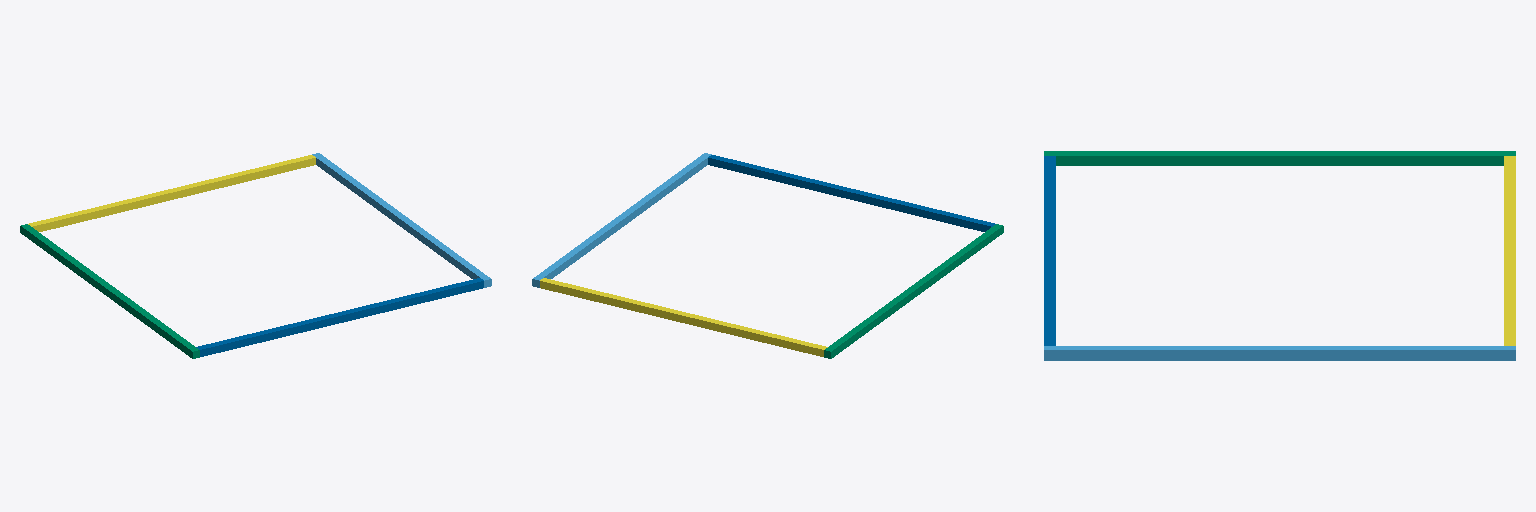
robot.urdf — unit_enclosure:
<?xml version="1.0"?>

<!-- a simple square battlefield for the robot swarm -->
<robot name="unit_enclosure">

<!-- used for fixing the four walls to gazebo -->
<link name="world"/>

<!-- the link objects for four walls -->

<!-- wall at x+1, wall at x+1 and x-1 will be longer than wall at y+1 and y-1 -->
<link name="x+1">
  <inertial>
    <mass value="1"/>
    <origin xyz="0 0 0"/>
    <inertia ixx="1.0" ixy="0.0" ixz="0.0"
      iyy="1.0" iyz="0.0"
      izz="1.0"/>
  </inertial>

  <visual>
    <origin xyz="0 0 0"/>
    <geometry>
      <box size="0.05 2.1 0.05"/>
    </geometry>
  </visual>

  <collision>
    <origin xyz="0 0 0"/>
    <geometry>
      <box size="0.05 2.1 0.05"/>
    </geometry>
  </collision>
</link>

<gazebo reference="x+1">
  <material>Gazebo/Grey</material>
</gazebo>

<!-- wall at x-1 -->
<link name="x-1">
  <inertial>
    <mass value="1"/>
    <origin xyz="0 0 0"/>
    <inertia ixx="1.0" ixy="0.0" ixz="0.0"
      iyy="1.0" iyz="0.0"
      izz="1.0"/>
  </inertial>

  <visual>
    <origin xyz="0 0 0"/>
    <geometry>
      <box size="0.05 2.1 0.05"/>
    </geometry>
  </visual>

  <collision>
    <origin xyz="0 0 0"/>
    <geometry>
      <box size="0.05 2.1 0.05"/>
    </geometry>
  </collision>
</link>

<gazebo reference="x-1">
  <material>Gazebo/Grey</material>
</gazebo>

<!-- wall at y+1 -->
<link name="y+1">
  <inertial>
    <mass value="1"/>
    <origin xyz="0 0 0"/>
    <inertia ixx="1.0" ixy="0.0" ixz="0.0"
      iyy="1.0" iyz="0.0"
      izz="1.0"/>
  </inertial>

  <visual>
    <origin xyz="0 0 0"/>
    <geometry>
      <box size="2.0 0.05 0.05"/>
    </geometry>
  </visual>

  <collision>
    <origin xyz="0 0 0"/>
    <geometry>
      <box size="2.0 0.05 0.05"/>
    </geometry>
  </collision>
</link>

<gazebo reference="y+1">
  <material>Gazebo/Grey</material>
</gazebo>

<!-- wall at y-1 -->
<link name="y-1">
  <inertial>
    <mass value="1"/>
    <origin xyz="0 0 0"/>
    <inertia ixx="1.0" ixy="0.0" ixz="0.0"
      iyy="1.0" iyz="0.0"
      izz="1.0"/>
  </inertial>

  <visual>
    <origin xyz="0 0 0"/>
    <geometry>
      <box size="2.0 0.05 0.05"/>
    </geometry>
  </visual>

  <collision>
    <origin xyz="0 0 0"/>
    <geometry>
      <box size="2.0 0.05 0.05"/>
    </geometry>
  </collision>
</link>

<gazebo reference="y-1">
  <material>Gazebo/Grey</material>
</gazebo>

<!-- the joint objects to fix the walls on the ground -->

<!-- for the wall at x+1 -->
<joint name="glue_wall_x+1" type="fixed">
  <parent link="world"/>
  <child link="x+1"/>
  <origin xyz="1.025 0 0.025" rpy="0 0 0"/>
</joint>

<!-- for the wall at x+1 -->
<joint name="glue_wall_x-1" type="fixed">
  <parent link="world"/>
  <child link="x-1"/>
  <origin xyz="-1.025 0 0.025" rpy="0 0 0"/>
</joint>

<!-- for the wall at x+1 -->
<joint name="glue_wall_y+1" type="fixed">
  <parent link="world"/>
  <child link="y+1"/>
  <origin xyz="0 1.025 0.025" rpy="0 0 0"/>
</joint>

<!-- for the wall at x+1 -->
<joint name="glue_wall_y-1" type="fixed">
  <parent link="world"/>
  <child link="y-1"/>
  <origin xyz="0 -1.025 0.025" rpy="0 0 0"/>
</joint>


</robot>

--- Render facts (derived) ---
The picture shows the robot from 3 angles, left to right: view 1: azimuth 30°, elevation 25°; view 2: azimuth 150°, elevation 25°; view 3: azimuth 270°, elevation 25°; orthographic projection.
Robot: unit_enclosure — 5 links, 4 joints (4 fixed); root link world; default pose: all joints at 0.
Visible links, largest first — view 1: y-1, y+1, x-1, x+1; view 2: y+1, y-1, x-1, x+1; view 3: x+1, x-1, y+1, y-1.
Boxes of the visible links, bbox=[...] form: y-1: bbox=[196, 278, 483, 356]; y+1: bbox=[28, 155, 315, 231]; x-1: bbox=[20, 224, 199, 358]; x+1: bbox=[312, 153, 491, 287]; y+1: bbox=[540, 278, 827, 356]; y-1: bbox=[708, 155, 995, 231]; x-1: bbox=[824, 224, 1003, 358]; x+1: bbox=[532, 153, 711, 287]; x+1: bbox=[1044, 346, 1515, 360]; x-1: bbox=[1044, 151, 1515, 165]; y+1: bbox=[1504, 156, 1515, 345]; y-1: bbox=[1044, 156, 1055, 345].
Bounding box of the posed robot: 2.1 × 2.1 × 0.05 m (x, y, z).
Geometry: primitives only (box / cylinder / sphere), no mesh files.